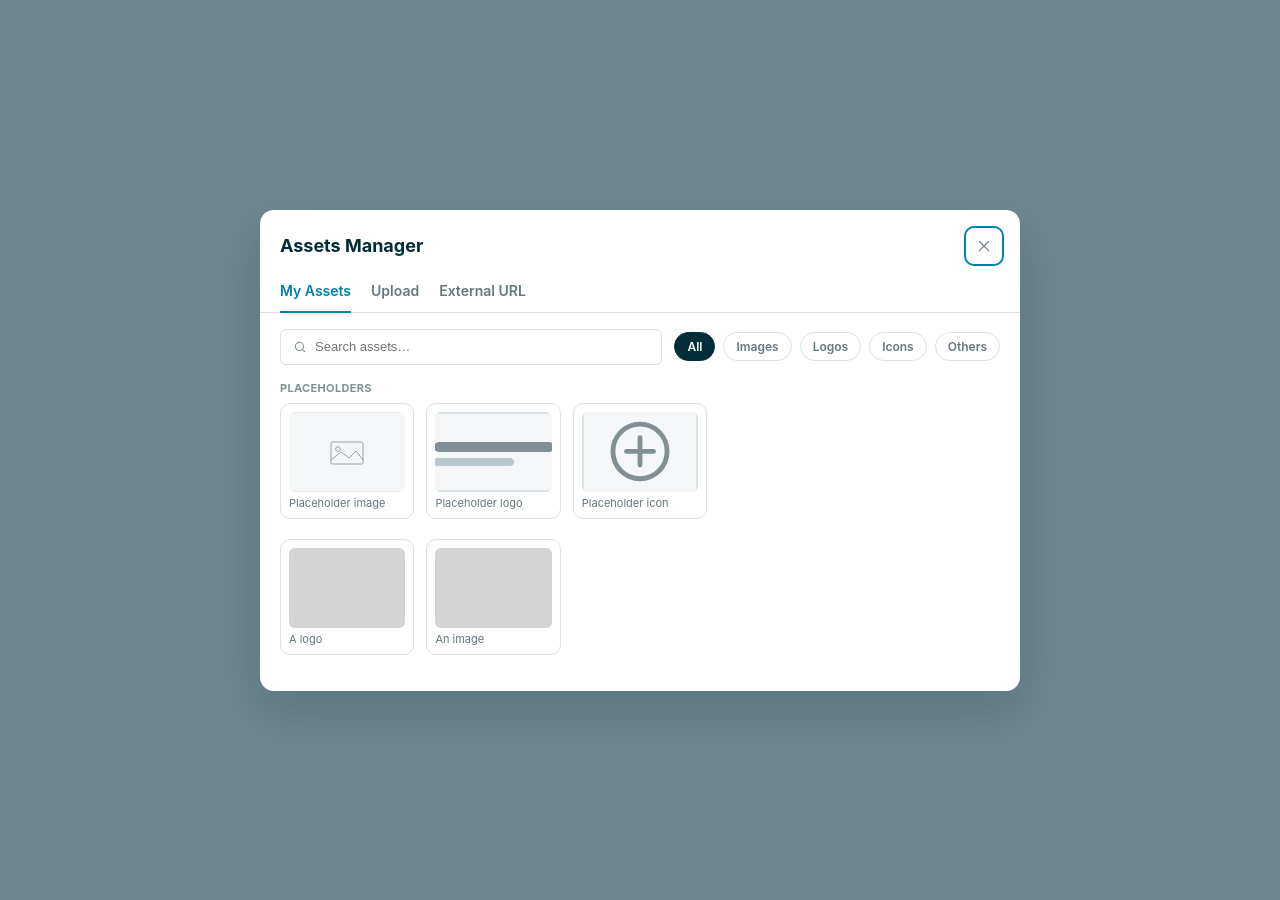
Scenario: AssetManagerDialog — browse › category chips filter the grid
Expected: the text "A logo" is shown, x1=289 y1=632 x2=322 y2=646
Click the button "Logos": coordinates (830, 346) x1=800 y1=332 x2=861 y2=361
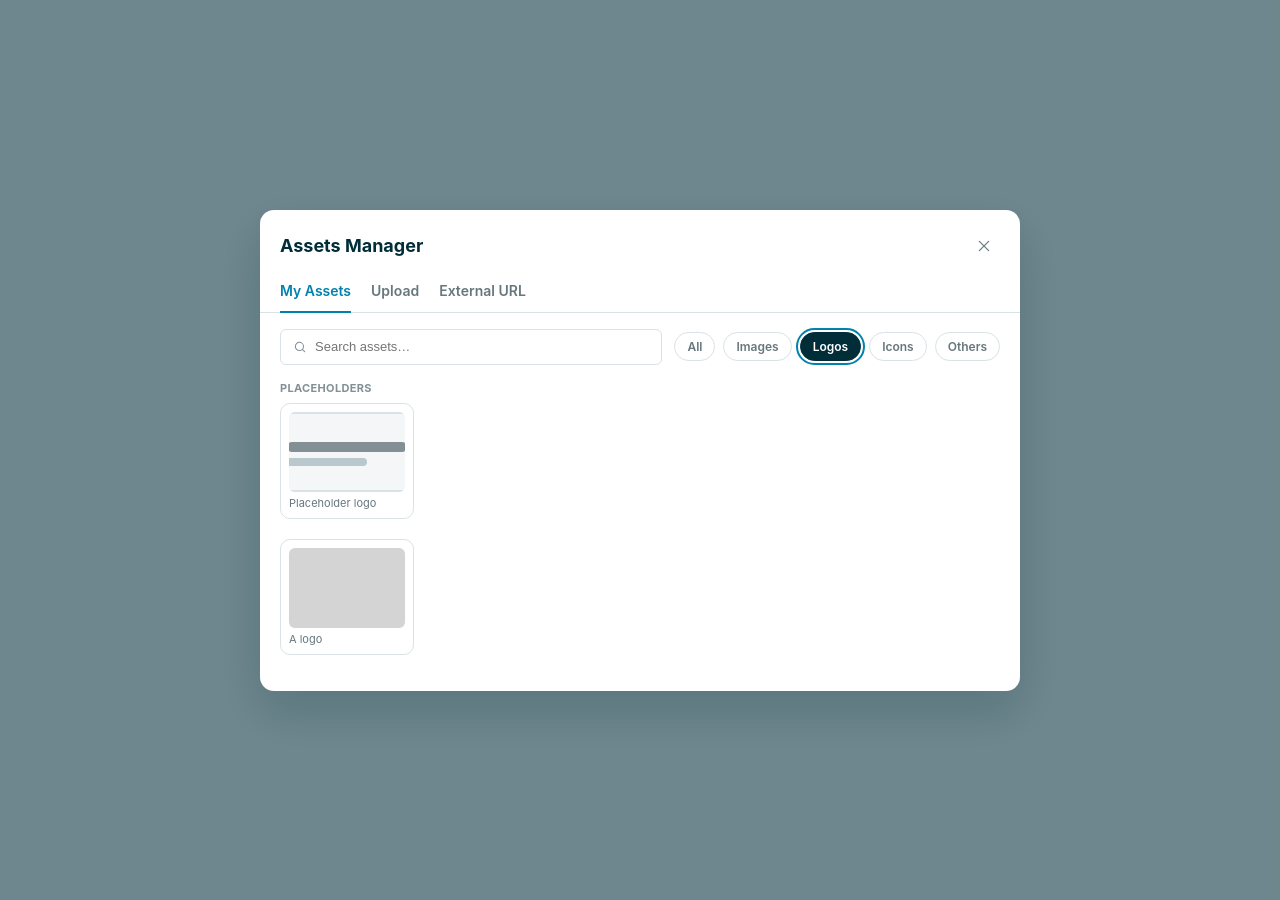
Expected: the text "A logo" is shown, x1=289 y1=632 x2=322 y2=646
Result: the button "An image" is gone
